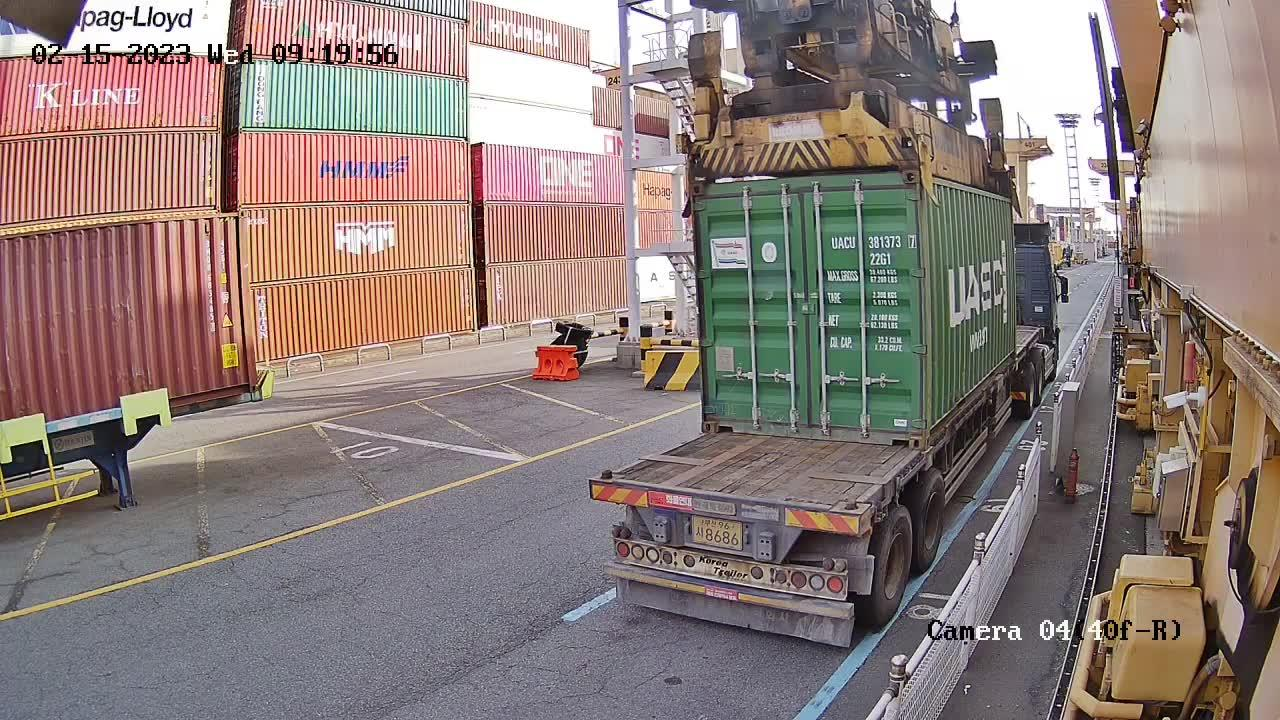Chassis: (588, 476, 860, 553)
Cone: (584, 467, 621, 498), (844, 501, 870, 532)
Hole_L: (925, 393, 949, 451), (700, 397, 736, 433)
Hole_R: (881, 408, 924, 450)
Tire: (868, 510, 914, 622), (914, 468, 947, 568)
